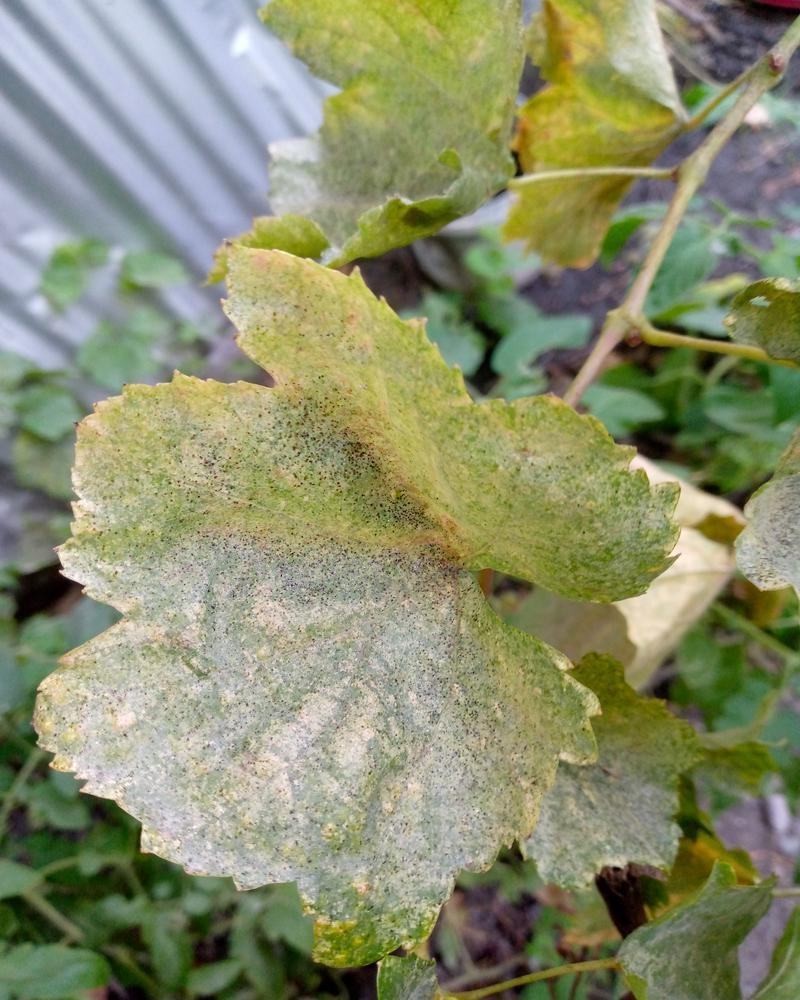Powdery-Mildew: (48, 384, 418, 881), (224, 250, 487, 529), (370, 541, 555, 866), (504, 412, 667, 583), (559, 747, 686, 874)
